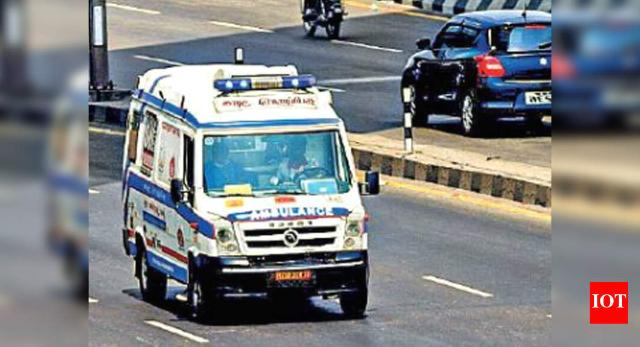ambulance: (122, 59, 381, 323)
